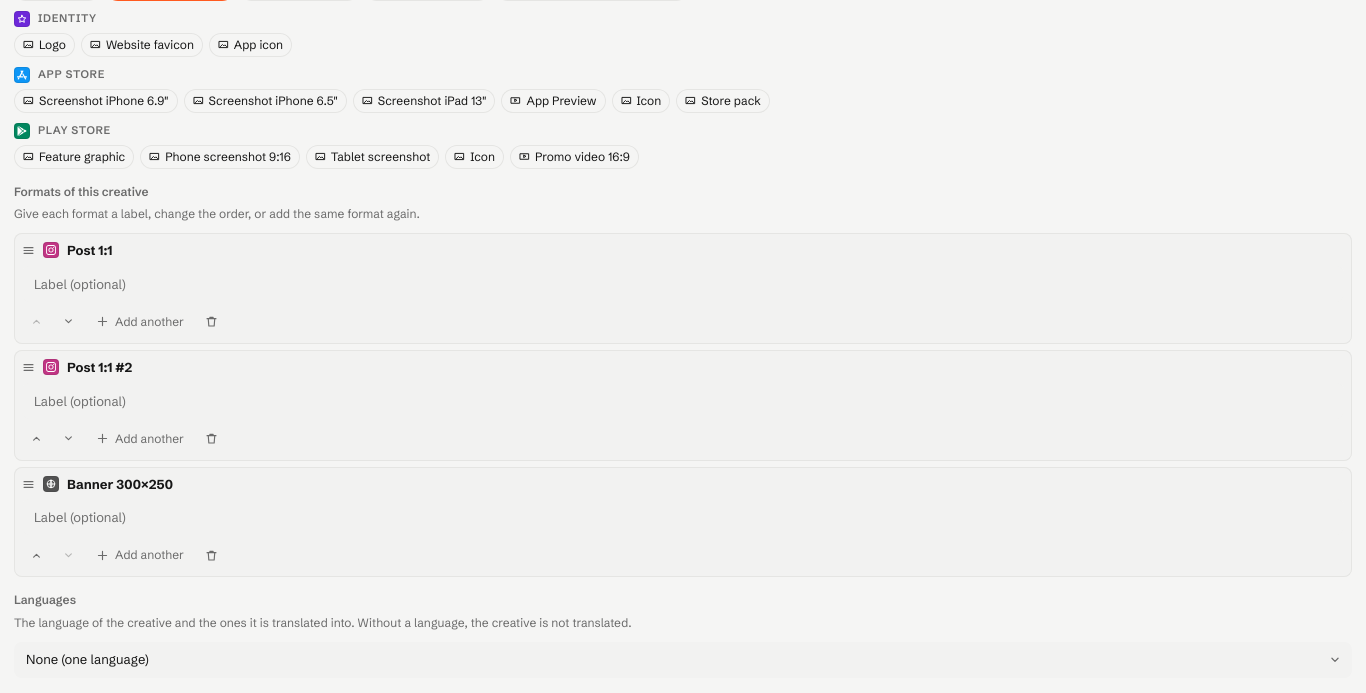
Test: format instances · brief editor › a failed partial save goes back to the latest stored brief, not the one captured earlier (Q4)
This screenshot has width=1366, height=693.
(page scrolled)
What coordinates should you click on to do the following:
click the button named "Move Post 1:1 down"
I would click on:
 (68, 322)
Its box is [54, 308, 82, 336].
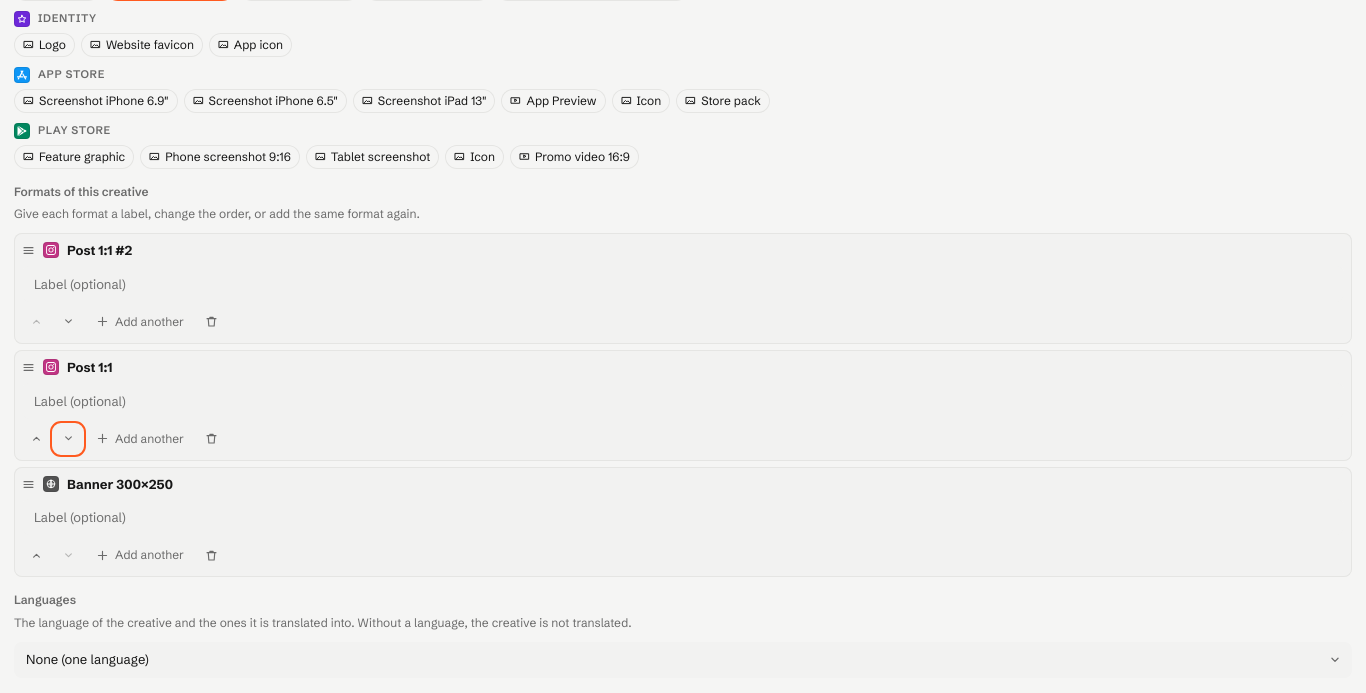
What coordinates should you click on to do the following:
click the button named "Move Banner 300×250 up"
I would click on:
 (36, 556)
Its box is [22, 542, 50, 570].
(page scrolled)
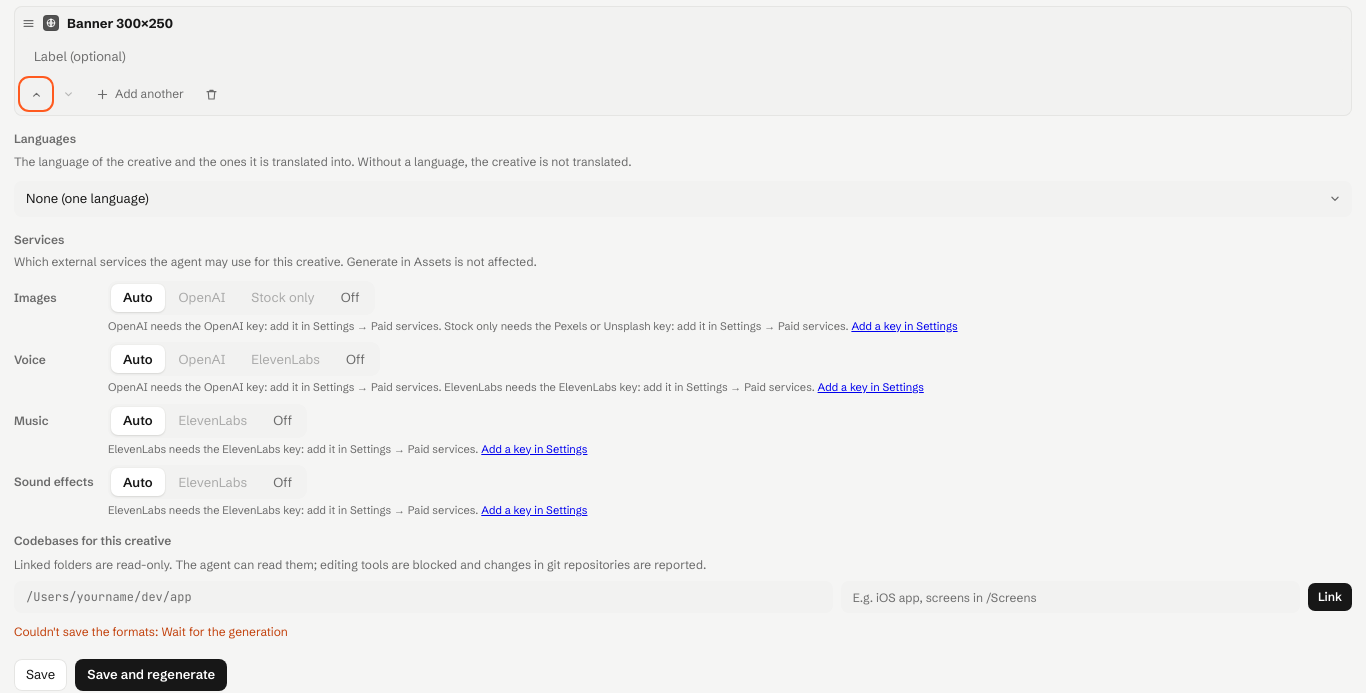
expect the message "Couldn't save the formats: Wait for the generation" is shown: met, box [14, 624, 288, 639]
